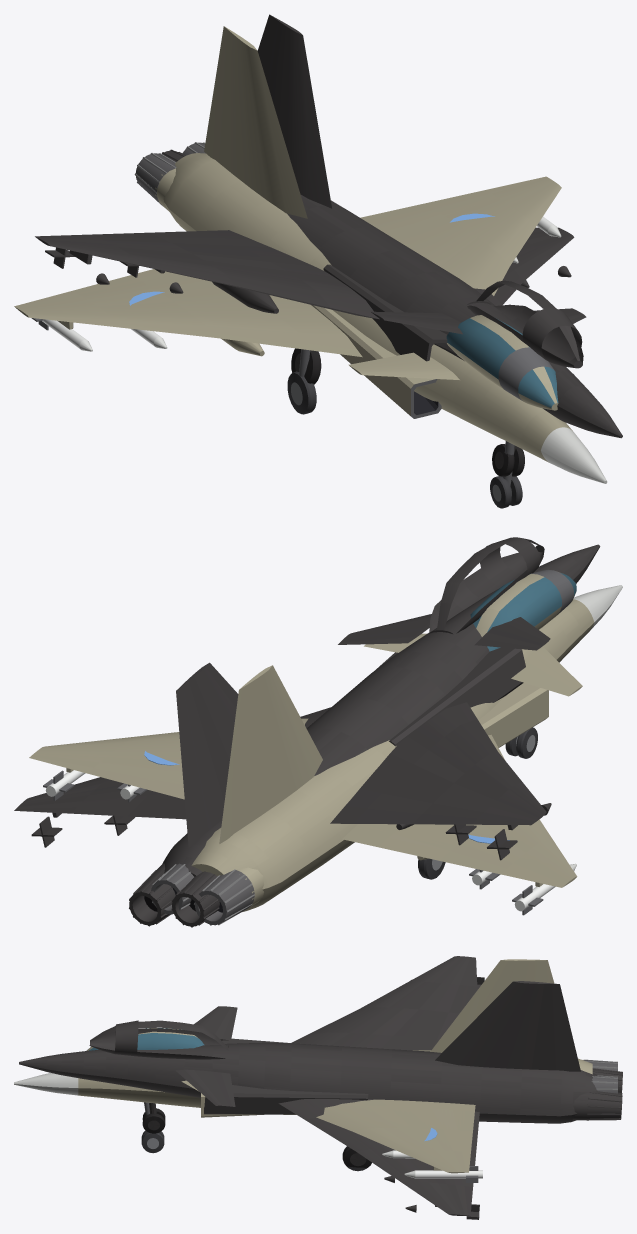
The model's file is carrierJet__rafale_m.glb.
3 views of the same model, one above another, from view 1: azimuth 30°, elevation 25°; view 2: azimuth 150°, elevation 25°; view 3: azimuth 270°, elevation 25° (orthographic). The views are drawn at different scales.
Visible parts, largest first — view 1: Fuselage_Mesh, Wreck; view 2: Wreck, Fuselage_Mesh; view 3: Wreck, Fuselage_Mesh.
Part boxes in pixels (<box>): Fuselage_Mesh: <box>14,26,607,508</box>; Wreck: <box>35,14,622,476</box>; Wreck: <box>14,537,600,927</box>; Fuselage_Mesh: <box>29,569,622,925</box>; Wreck: <box>19,956,622,1219</box>; Fuselage_Mesh: <box>14,959,617,1182</box>.
Size of what is drawn, in the model's own units: 11.19 by 5.34 by 15.46.
